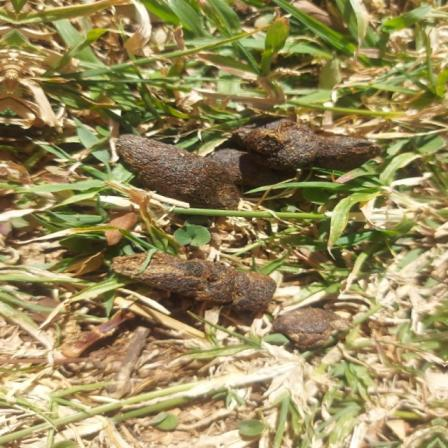dog-poop: (112, 247, 346, 350), (114, 108, 360, 202)
